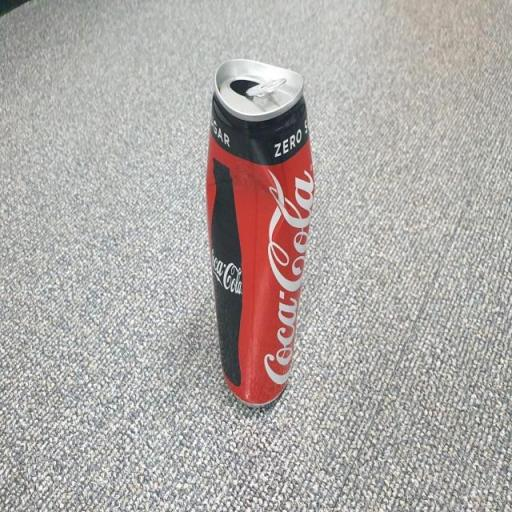metal: (196, 38, 318, 421)
